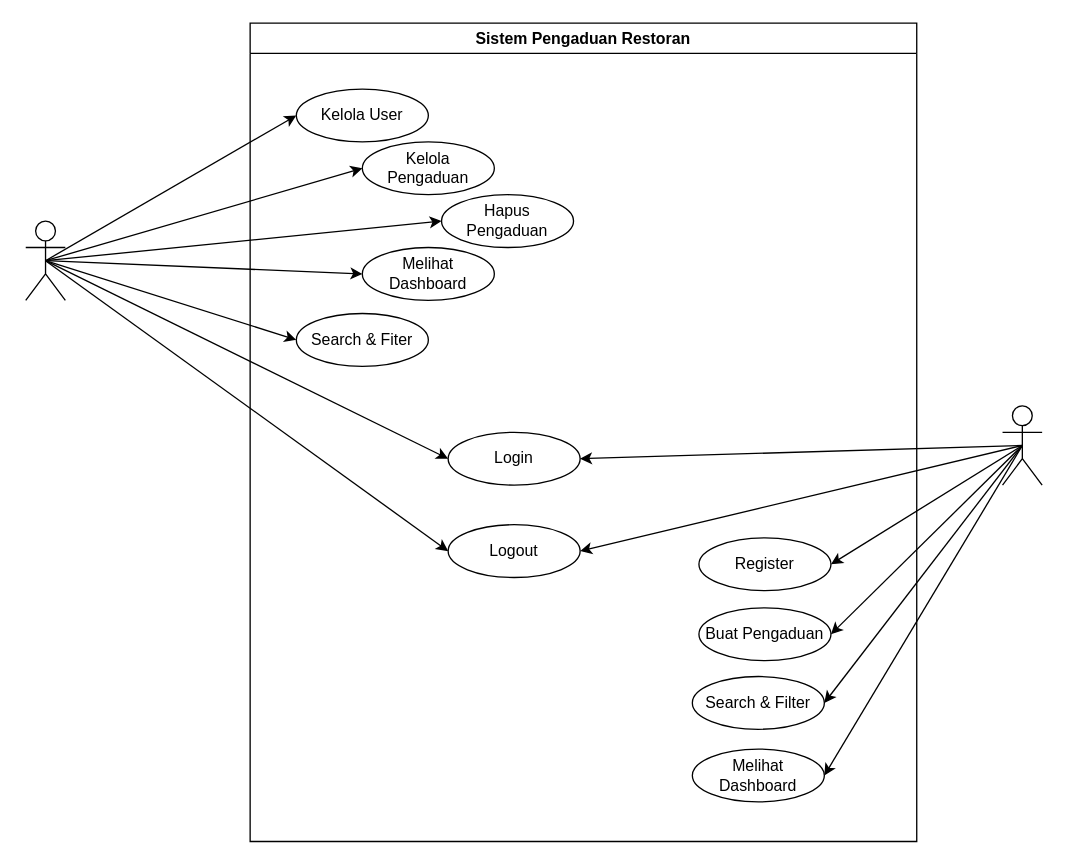
Image size: 1078x865. Some labels were removed from this diagram. The centre of each missing label's shape, as x and y in pixels:
"Admin" belongs at (x=44, y=260).
"Customer" belongs at (x=1021, y=445).
